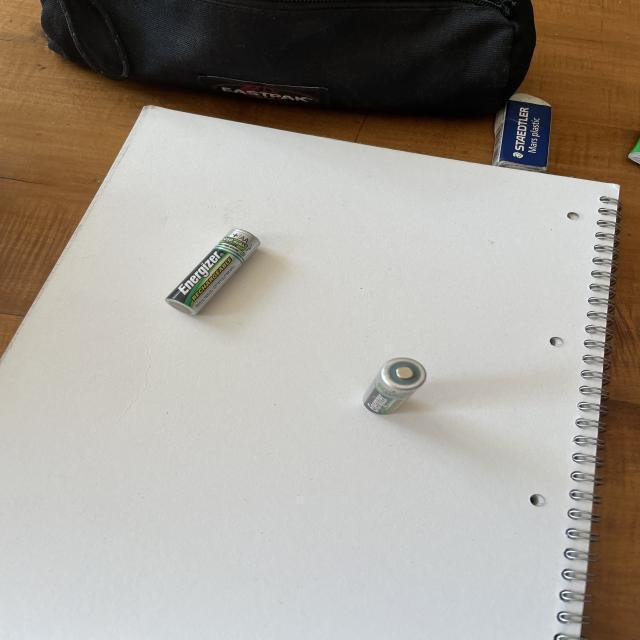Hazard: (165, 224, 265, 319), (360, 356, 428, 414)
